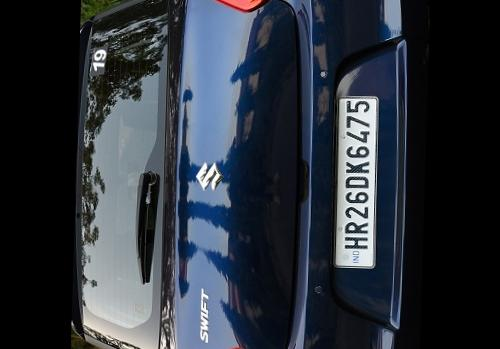plate: (320, 83, 390, 287)
